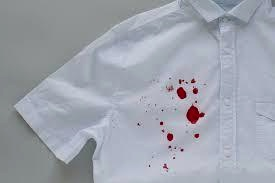blood: (187, 106, 201, 124), (177, 78, 187, 99), (189, 78, 198, 94), (158, 120, 165, 133), (166, 132, 175, 142), (193, 132, 200, 139)
